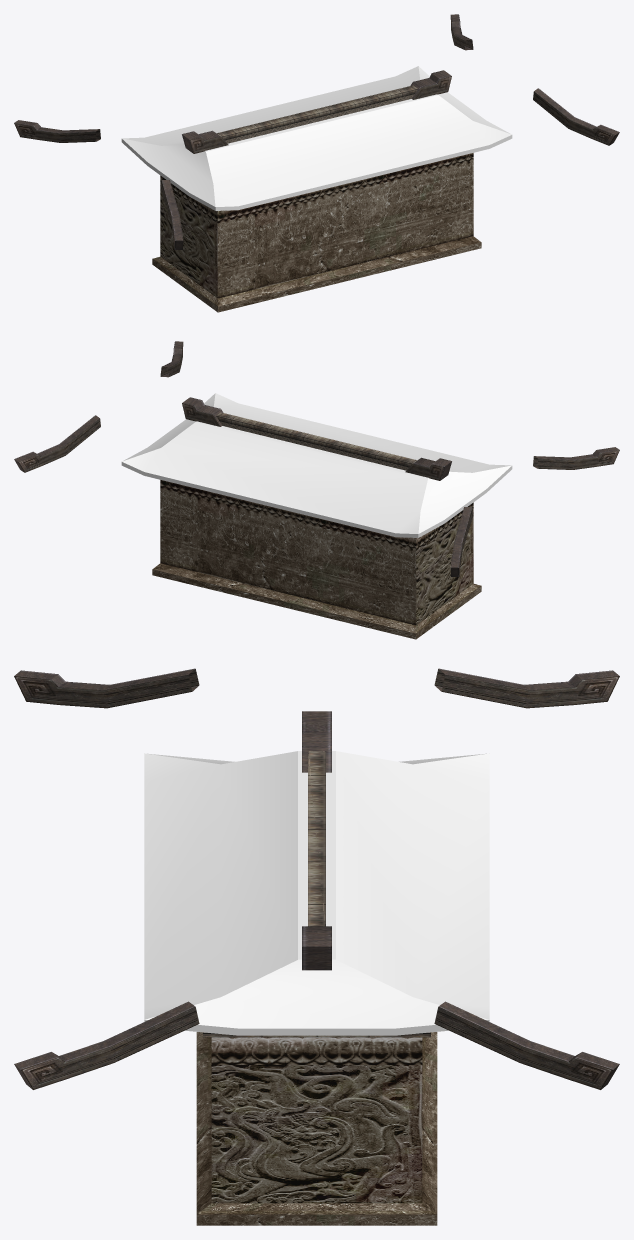
Rendered from 汉代石棺.FBX.
3 views of the same model, one above another, from view 1: azimuth 30°, elevation 25°; view 2: azimuth 150°, elevation 25°; view 3: azimuth 270°, elevation 25° (orthographic). The views are drawn at different scales.
Parts seen in each view (by area): view 1: Box01, Box13, Box17, Box15, Box10, Box11, Box14, Box16; view 2: Box01, Box13, Box16, Box10, Box15, Box11, Box14, Box17; view 3: Box01, Box16, Box17, Box10, Box15, Box13, Box14, Box11.
Part boxes in pixels (x1,y1,x2,y2): Box01: [121, 66, 512, 312]; Box13: [217, 85, 417, 143]; Box17: [533, 88, 619, 145]; Box15: [14, 120, 100, 142]; Box10: [160, 180, 183, 249]; Box11: [410, 70, 451, 99]; Box14: [182, 130, 228, 153]; Box16: [450, 14, 473, 50]; Box01: [121, 393, 512, 639]; Box13: [216, 412, 416, 470]; Box16: [14, 415, 100, 472]; Box10: [533, 447, 619, 469]; Box15: [450, 507, 473, 576]; Box11: [182, 397, 223, 426]; Box14: [405, 457, 451, 480]; Box17: [160, 341, 183, 377]; Box01: [144, 751, 489, 1225]; Box16: [434, 1001, 619, 1089]; Box17: [14, 1001, 199, 1089]; Box10: [14, 668, 199, 708]; Box15: [434, 668, 619, 708]; Box13: [308, 751, 325, 926]; Box14: [302, 711, 331, 772]; Box11: [302, 926, 331, 970].
Bounding box in the file's own units: 292 × 94.9 × 187.
